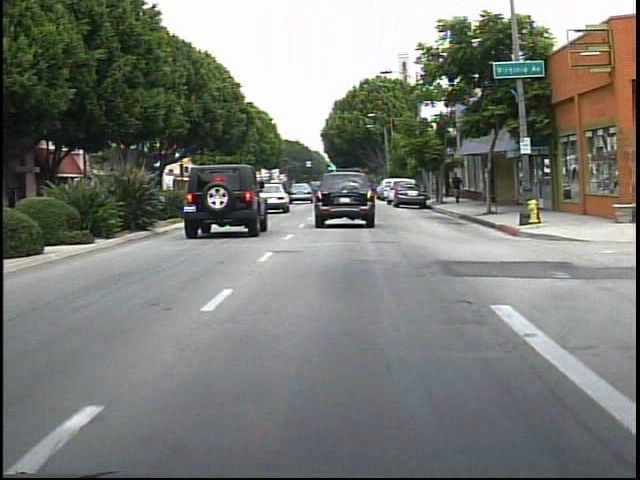person: (447, 169, 467, 207)
